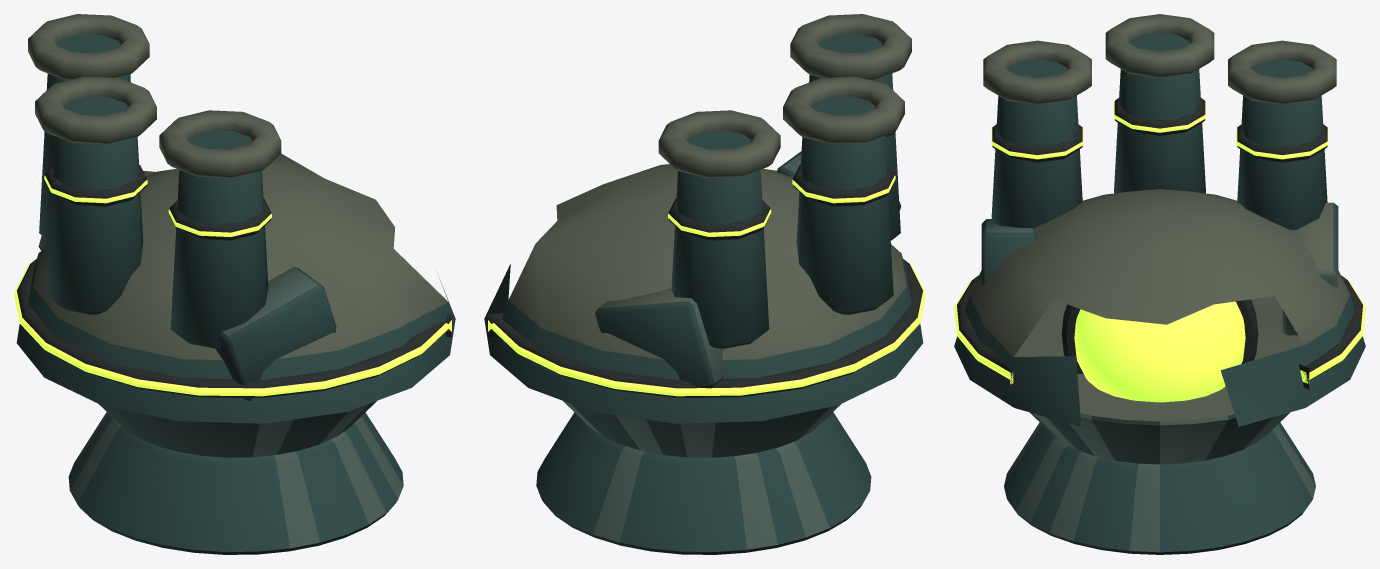
Rendered from warden_kit_reactor.glb.
3 views of the same model, side by side, from view 1: azimuth 30°, elevation 25°; view 2: azimuth 150°, elevation 25°; view 3: azimuth 270°, elevation 25° (orthographic). The views are drawn at different scales.
Parts seen in each view (by area): view 1: Body, Vent1, Vent2, Vent0; view 2: Body, Vent1, Vent0, Vent2; view 3: Body, Vent2, Vent0, Vent1, WeakPoint.
Part boxes in pixels (left/top/right/bottom): Body: left=14, top=153, right=455, bottom=554; Vent1: left=35, top=76, right=156, bottom=314; Vent2: left=159, top=110, right=281, bottom=348; Vent0: left=28, top=14, right=149, bottom=240; Body: left=484, top=151, right=925, bottom=554; Vent1: left=783, top=76, right=904, bottom=314; Vent0: left=658, top=110, right=780, bottom=348; Vent2: left=790, top=14, right=911, bottom=240; Body: left=954, top=189, right=1365, bottom=554; Vent2: left=983, top=40, right=1091, bottom=228; Vent0: left=1228, top=40, right=1336, bottom=229; Vent1: left=1105, top=14, right=1214, bottom=193; WeakPoint: left=1061, top=299, right=1258, bottom=402.
Size of the model in its own units: 3.39 by 3.67 by 3.51.
